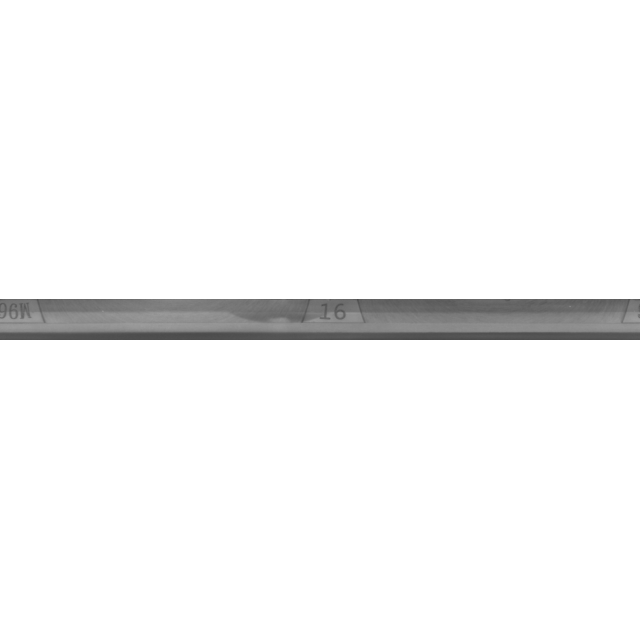mohao: (0, 270, 109, 370)
xuehao: (238, 270, 438, 370)
